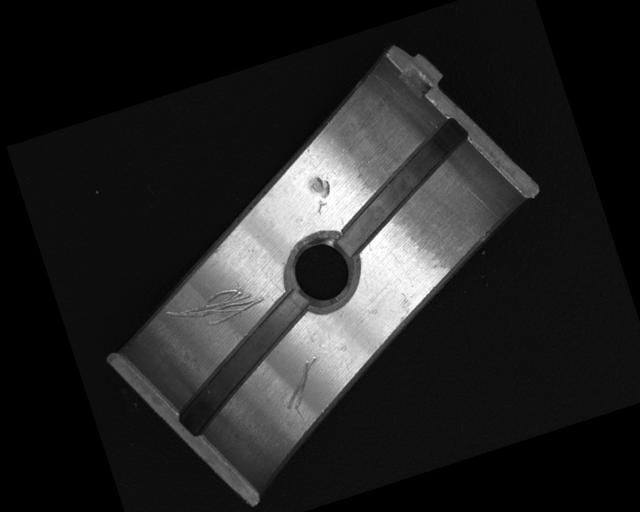bruise: (305, 171, 338, 217)
gap: (154, 289, 332, 437), (317, 116, 490, 257)
hole: (274, 226, 368, 317)
nick: (163, 277, 268, 340), (274, 355, 328, 412)
